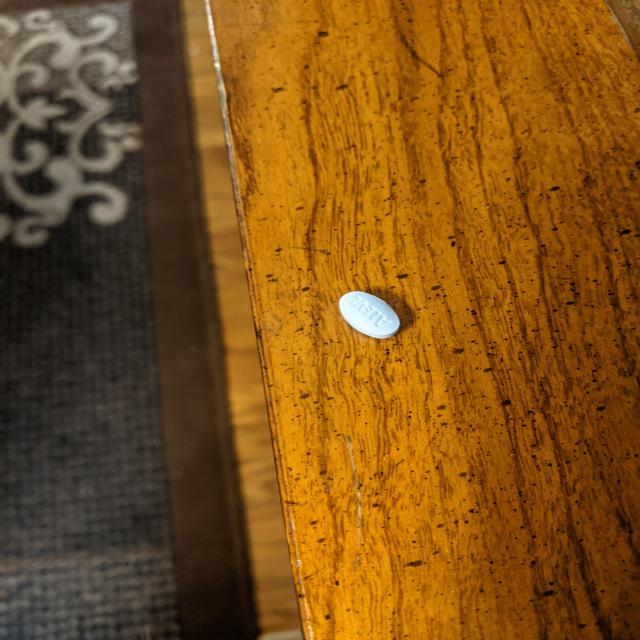non-organic waste: (338, 290, 402, 340)
